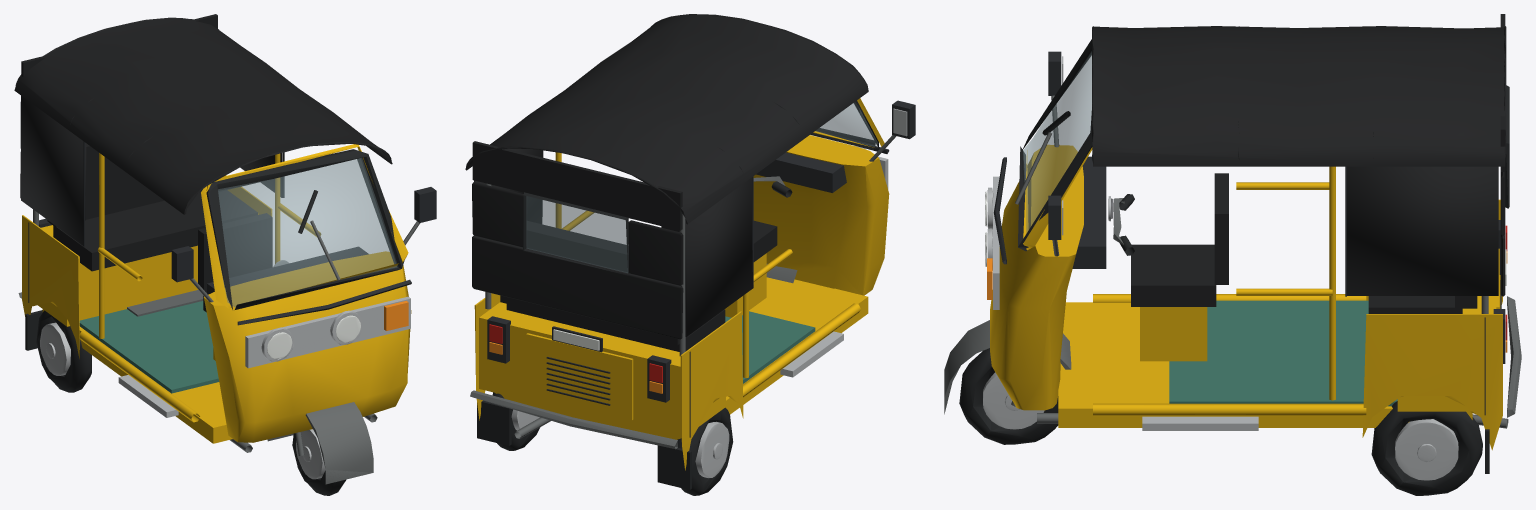
File: keke_classic_lod1.glb
3 views of the same model, side by side, from view 1: azimuth 30°, elevation 25°; view 2: azimuth 150°, elevation 25°; view 3: azimuth 270°, elevation 25° (orthographic). The views are drawn at different scales.
Parts seen in each view (by area): view 1: Body, Fork, Wheel_Rear_Left, Wheel_Front; view 2: Body, Wheel_Rear_Left, Wheel_Rear_Right; view 3: Body, Wheel_Rear_Right, Wheel_Front, Fork.
Part boxes in pixels (x1,y1,x2,y2): Body: [14, 14, 436, 452]; Fork: [267, 402, 373, 484]; Wheel_Rear_Left: [36, 310, 91, 392]; Wheel_Front: [292, 429, 346, 495]; Body: [465, 14, 915, 489]; Wheel_Rear_Left: [677, 407, 733, 495]; Wheel_Rear_Right: [492, 392, 540, 450]; Body: [985, 14, 1521, 473]; Wheel_Rear_Right: [1371, 401, 1482, 495]; Wheel_Front: [959, 348, 1058, 444]; Fork: [944, 320, 1071, 414].
Bounding box in the file's own units: 1.62 × 1.92 × 2.58.
